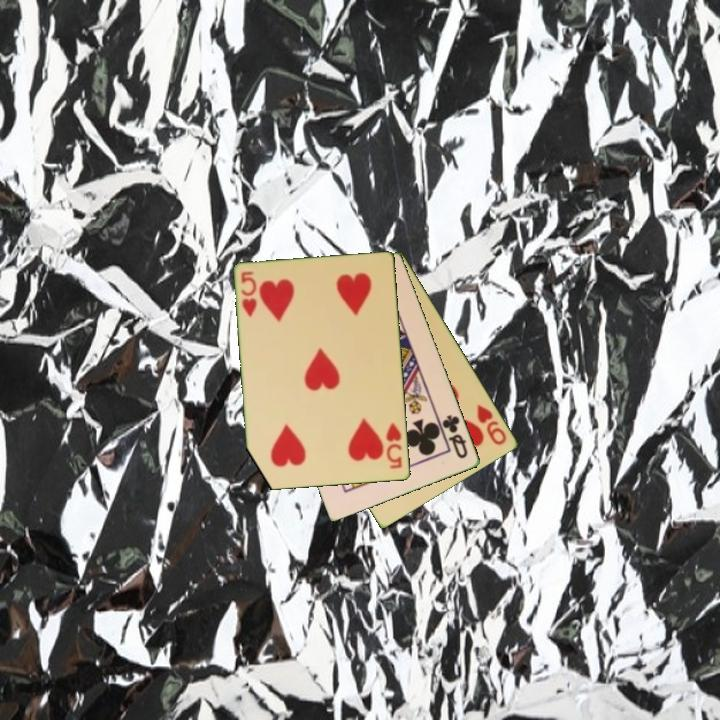5h: (383, 420, 405, 472), (238, 268, 260, 320)
9h: (474, 401, 510, 448)
Qc: (439, 411, 471, 462)
